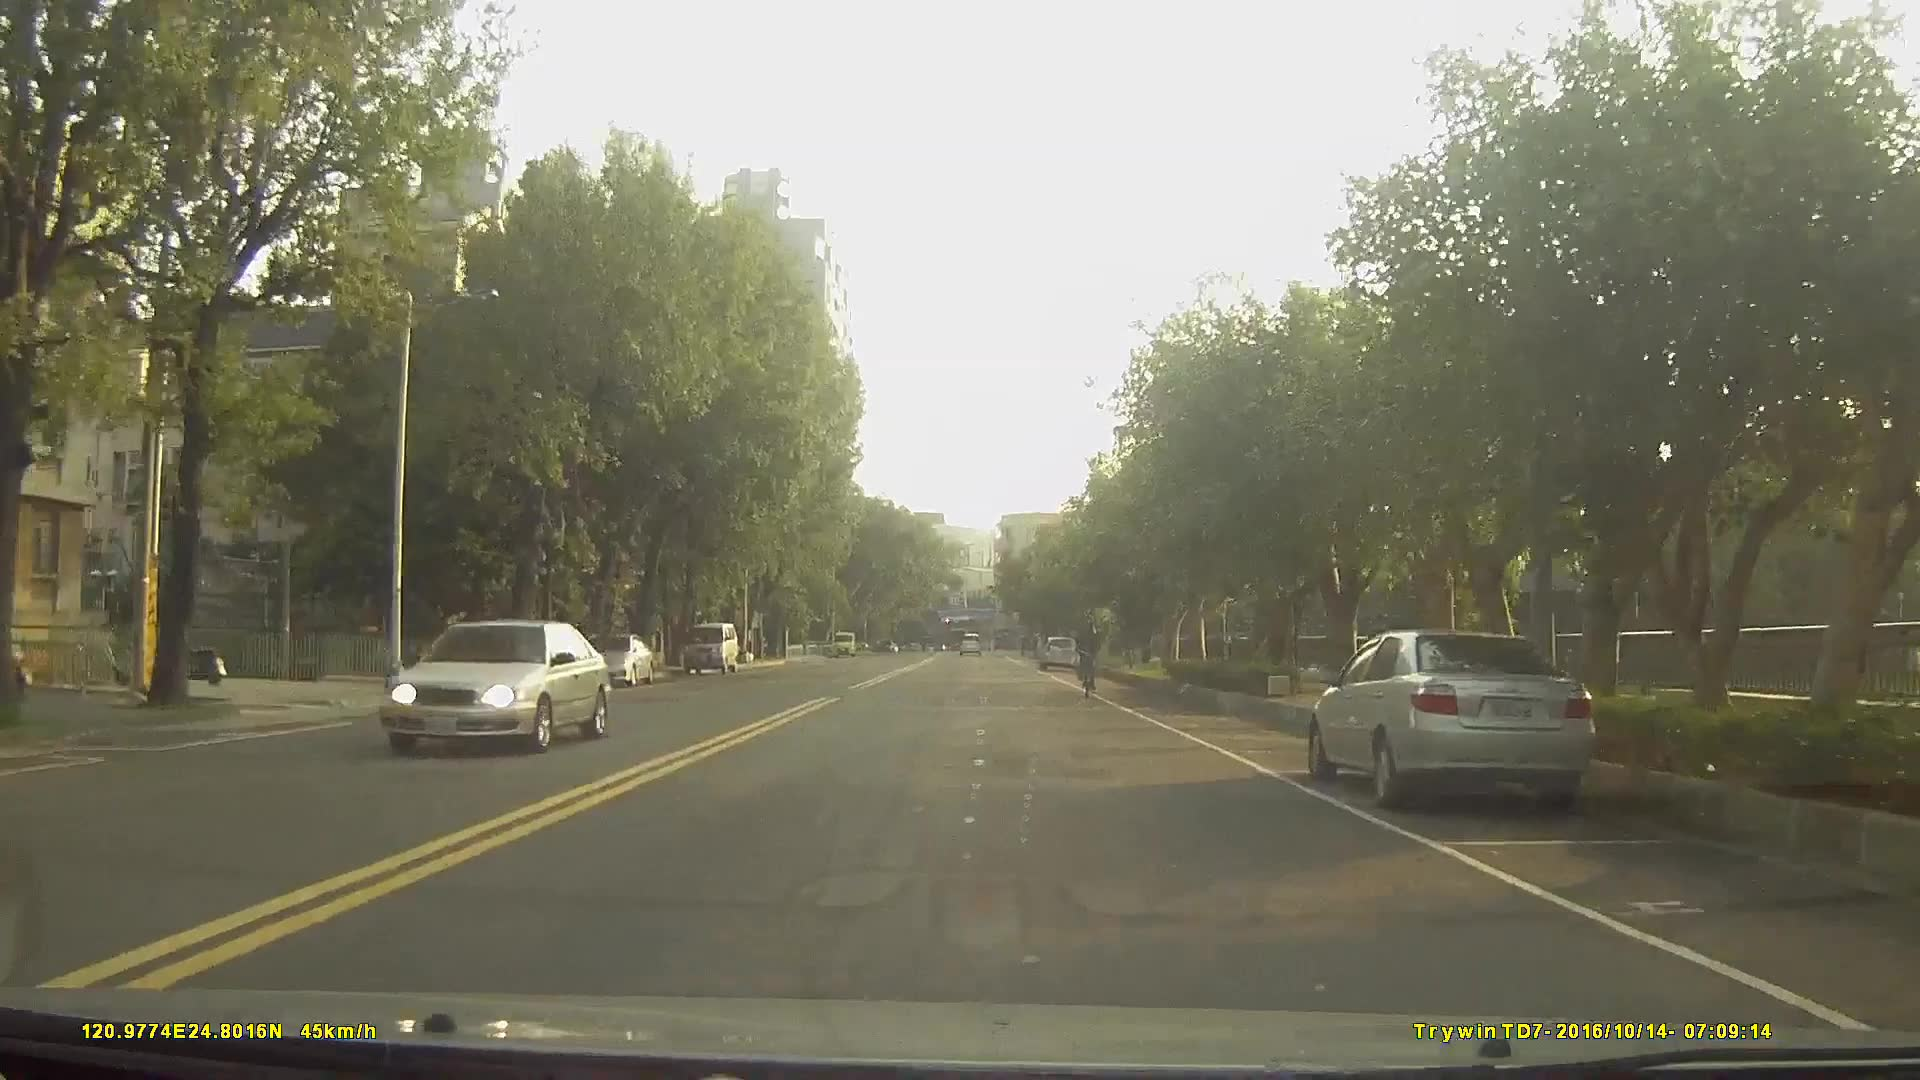rider: (1076, 617, 1103, 701)
vehicle: (1304, 625, 1602, 811), (374, 618, 611, 757), (582, 632, 653, 688), (682, 621, 740, 674), (1038, 632, 1080, 670), (958, 628, 983, 654)
